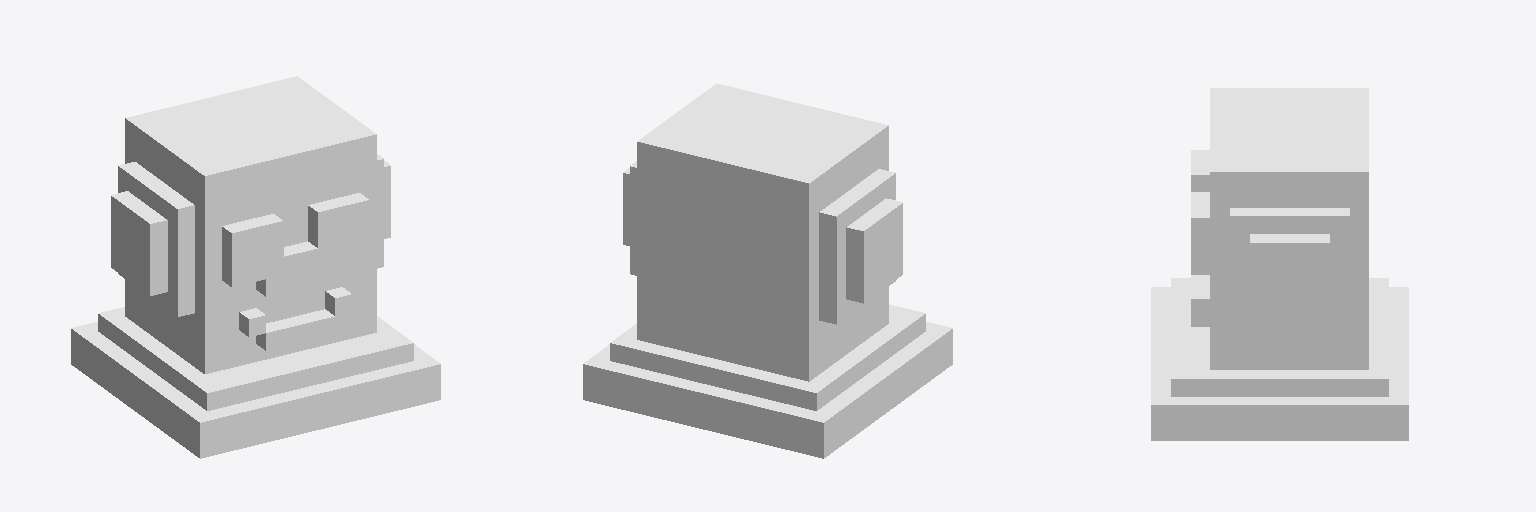
File: character1.obj
3 renders of one model, left to right at view 1: azimuth 30°, elevation 25°; view 2: azimuth 150°, elevation 25°; view 3: azimuth 270°, elevation 25°, orthographic.
Visible parts, largest first — view 1: object 1; view 2: object 1; view 3: object 1.
Boxes of the visible parts, box(x1,y1,x2,y2) form: object 1: box(71, 76, 440, 458); object 1: box(583, 83, 952, 458); object 1: box(1151, 88, 1408, 440).
Bounding box in the file's own units: 1.4 × 1.4 × 1.3.